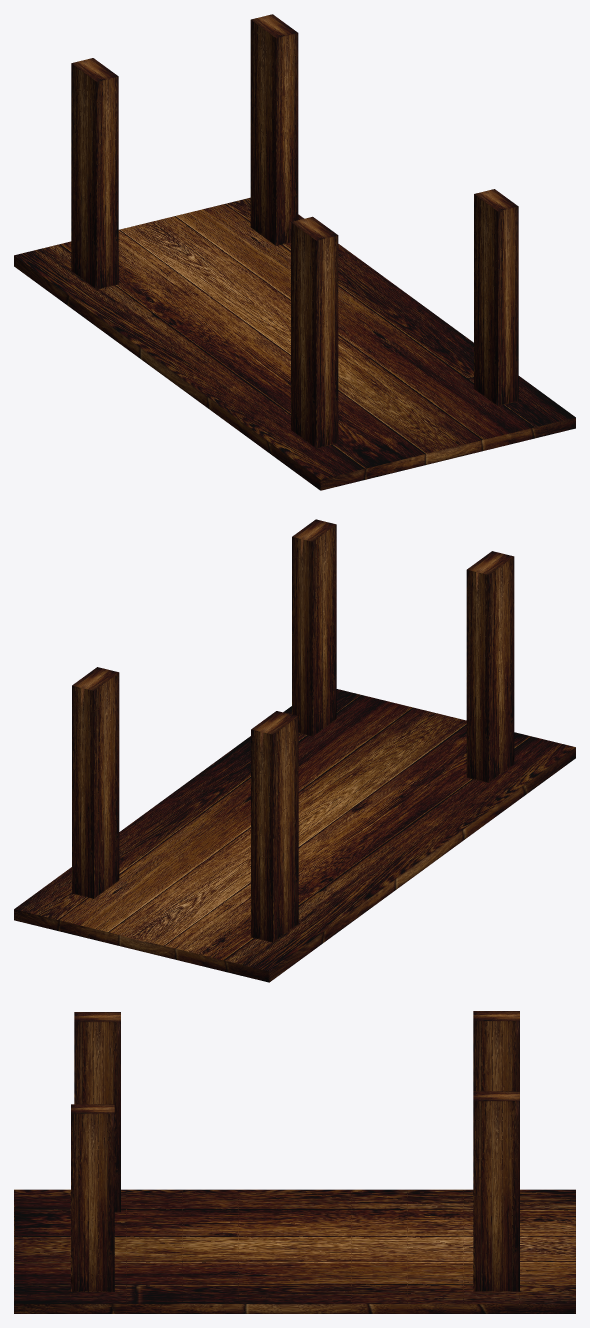
File: Table.obj
The picture shows the model from 3 angles, top to bottom: view 1: azimuth 30°, elevation 25°; view 2: azimuth 150°, elevation 25°; view 3: azimuth 270°, elevation 25°; orthographic projection. The views are drawn at different scales.
Parts seen in each view (by area): view 1: Box01, Box03, Box02, Box04, Box05; view 2: Box01, Box04, Box02, Box03, Box05; view 3: Box01, Box03, Box05, Box04, Box02.
Part boxes in pixels (x1,y1,x2,y2): Box01: (14,197,575,490); Box03: (250,14,298,245); Box02: (71,58,118,289); Box04: (291,216,338,448); Box05: (474,189,518,405); Box01: (14,689,575,982); Box04: (466,551,514,782); Box02: (251,711,298,942); Box03: (72,667,119,898); Box05: (292,519,336,736); Box01: (14,1189,575,1313); Box03: (473,1091,519,1291); Box05: (71,1104,114,1291); Box04: (74,1012,120,1212); Box02: (473,1011,519,1091).
Bounding box in the file's own units: 57.85 × 47.38 × 120.
